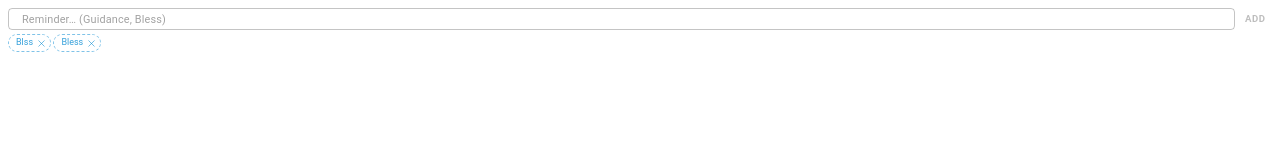
Scenario: a recent reminder can be forgotten
Click the icon named "Forget Blss" at (42, 43), box [36,38,47,48]
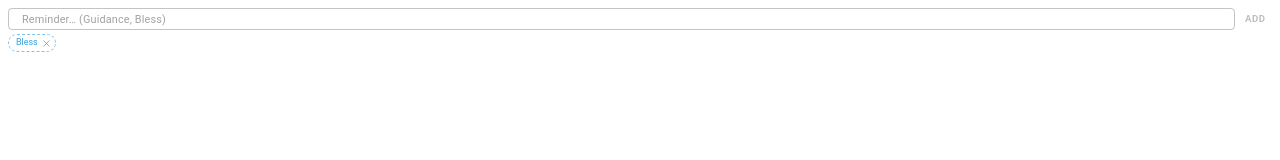
Now the button "Blss" is gone
